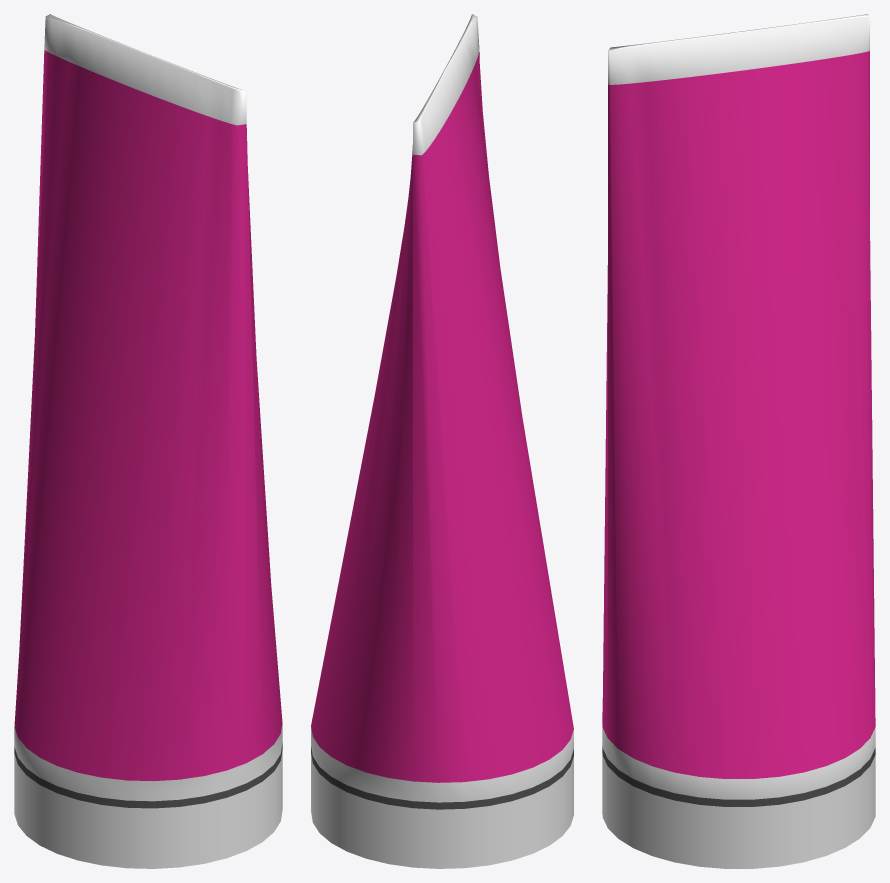
File: facewash.fbx
3 views of the same model, side by side, from view 1: azimuth 30°, elevation 25°; view 2: azimuth 150°, elevation 25°; view 3: azimuth 270°, elevation 25° (orthographic). The views are drawn at different scales.
Visible parts, largest first — view 1: facewash; view 2: facewash; view 3: facewash.
Part boxes in pixels (x1,y1,x2,y2): facewash: (14, 14, 282, 868); facewash: (311, 14, 573, 868); facewash: (602, 14, 875, 868).
Size of the model in its own units: 38.6 by 121 by 38.6.
